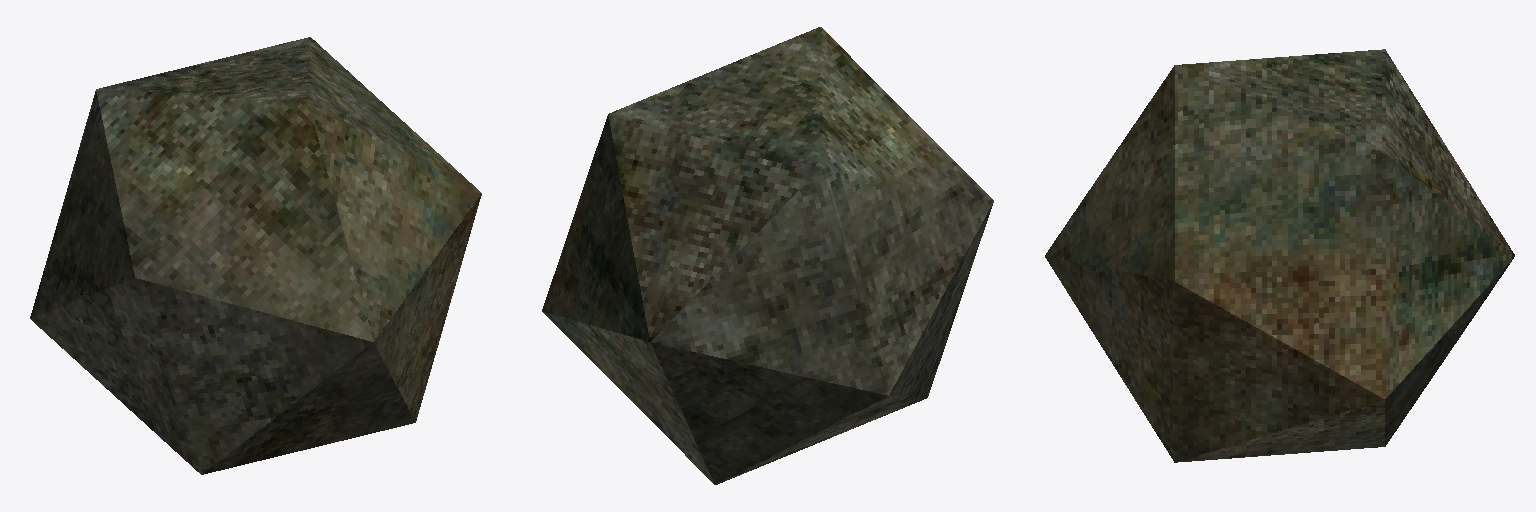
3 renders of one model, left to right at view 1: azimuth 30°, elevation 25°; view 2: azimuth 150°, elevation 25°; view 3: azimuth 270°, elevation 25°, orthographic.
Parts seen in each view (by area): view 1: Icosphere.001; view 2: Icosphere.001; view 3: Icosphere.001.
Boxes of the visible parts, x1,y1,x2,y2 form: Icosphere.001: [30, 37, 481, 474]; Icosphere.001: [542, 27, 993, 484]; Icosphere.001: [1045, 49, 1514, 462].
Bounding box in the file's own units: 871 × 916 × 1024.
1 materials, 1 textured.